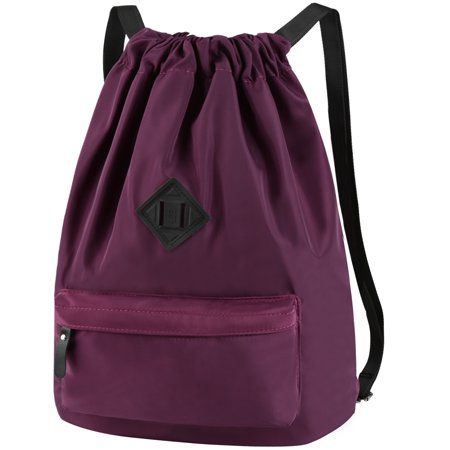nylon: (54, 27, 360, 446)
